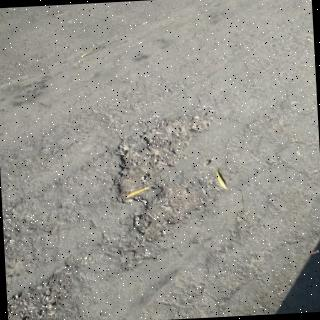pothole: (108, 117, 234, 244), (9, 269, 77, 320)
